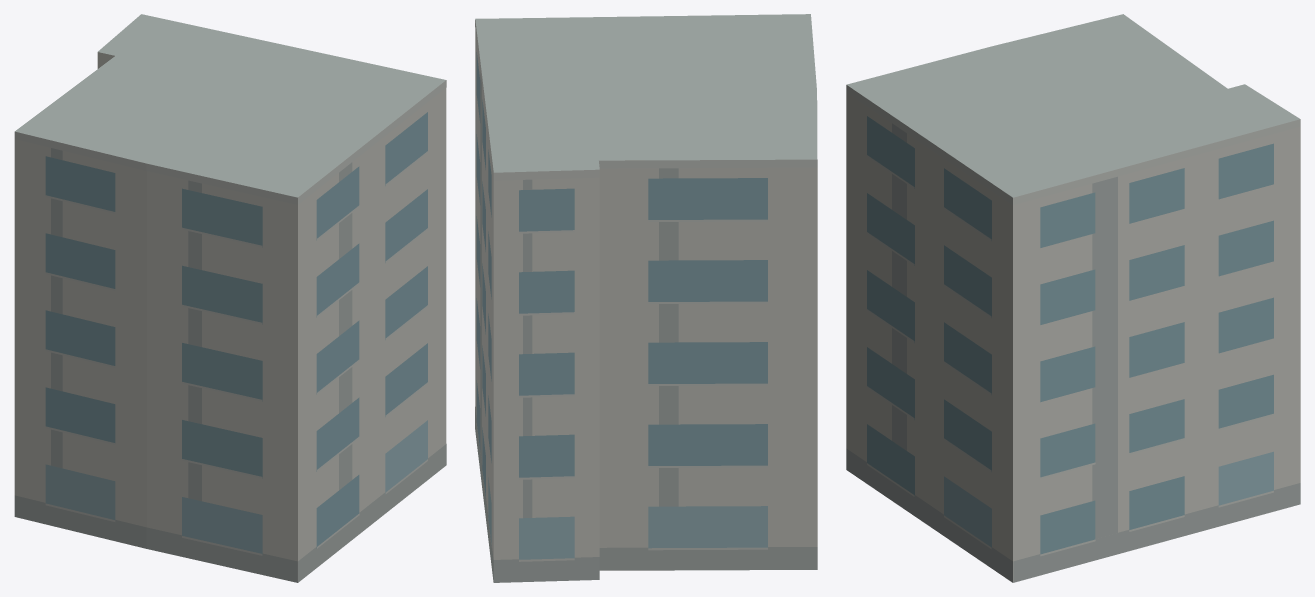
File: survey-upis-32724539.glb
3 renders of one model, left to right at view 1: azimuth 30°, elevation 25°; view 2: azimuth 150°, elevation 25°; view 3: azimuth 270°, elevation 25°, orthographic. The views are drawn at different scales.
Parts seen in each view (by area): view 1: survey-upis-32724539.tmp; view 2: survey-upis-32724539.tmp; view 3: survey-upis-32724539.tmp.
Part boxes in pixels (left/top/right/bottom): survey-upis-32724539.tmp: left=14, top=14, right=446, bottom=582; survey-upis-32724539.tmp: left=475, top=14, right=817, bottom=582; survey-upis-32724539.tmp: left=846, top=14, right=1300, bottom=582.
Size of the model in its own units: 12.8 by 12.5 by 13.37.
